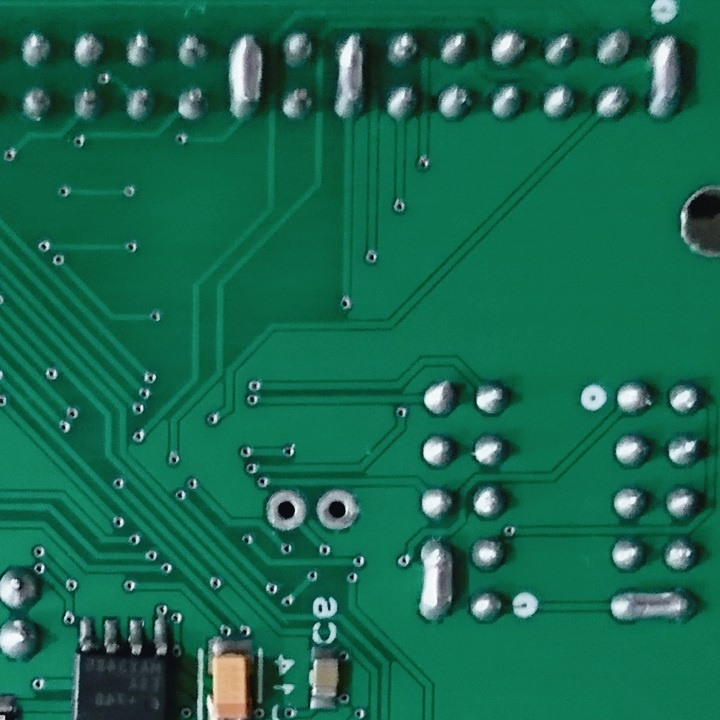F: (311, 486, 363, 535), (262, 486, 308, 535)
P: (224, 29, 270, 123), (607, 587, 698, 631), (416, 536, 460, 626), (329, 27, 369, 123), (648, 30, 684, 131)
